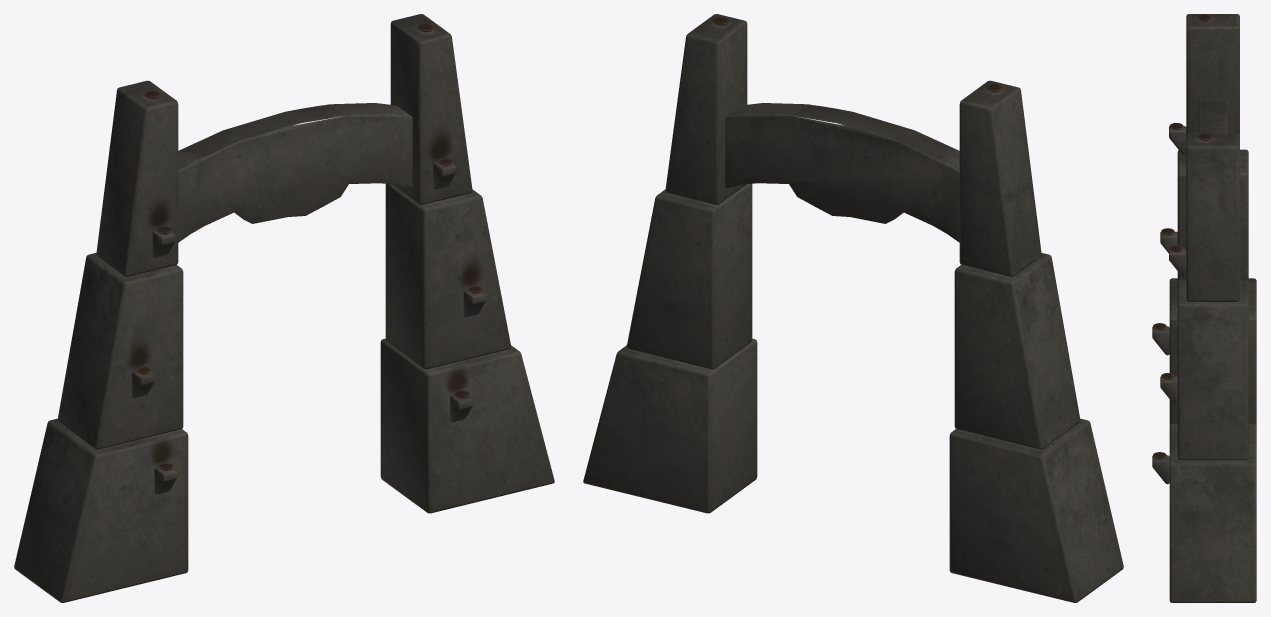
Rendered from mdl_franch_historygate_nodoor.gltf.
The picture shows the model from 3 angles, left to right: view 1: azimuth 30°, elevation 25°; view 2: azimuth 150°, elevation 25°; view 3: azimuth 270°, elevation 25°; orthographic projection. The views are drawn at different scales.
Parts seen in each view (by area): view 1: defaultMaterial; view 2: defaultMaterial; view 3: defaultMaterial.
Part boxes in pixels (x1,y1,x2,y2): defaultMaterial: [14, 14, 554, 602]; defaultMaterial: [583, 14, 1123, 602]; defaultMaterial: [1152, 14, 1256, 602].
Size of the model in its own units: 10.14 by 9.2 by 2.08.
Materials: 1 (1 with a texture image).
